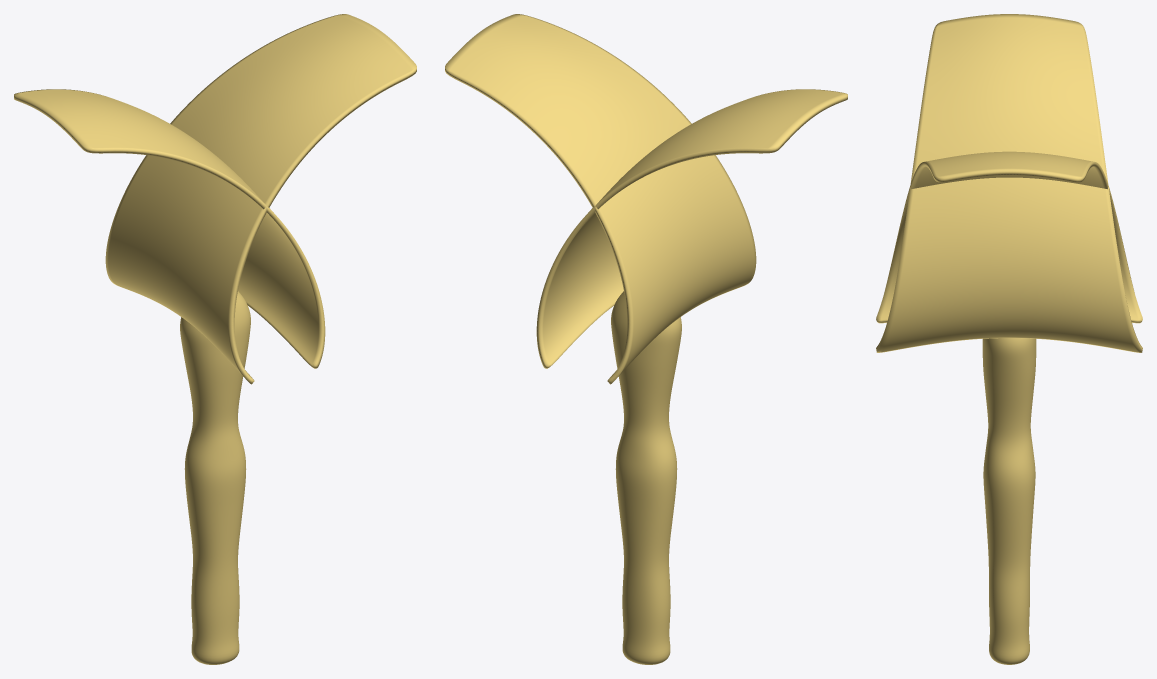
The model's file is cherub.glb.
3 renders of one model, left to right at view 1: azimuth 30°, elevation 25°; view 2: azimuth 150°, elevation 25°; view 3: azimuth 270°, elevation 25°, orthographic. The views are drawn at different scales.
Parts seen in each view (by area): view 1: Body; view 2: Body; view 3: Body.
Boxes of the visible parts, bbox=[...] form: Body: bbox=[14, 14, 416, 664]; Body: bbox=[445, 14, 847, 664]; Body: bbox=[876, 14, 1142, 664].
Size of the model in its own units: 0.1651 by 0.278 by 0.1185.
